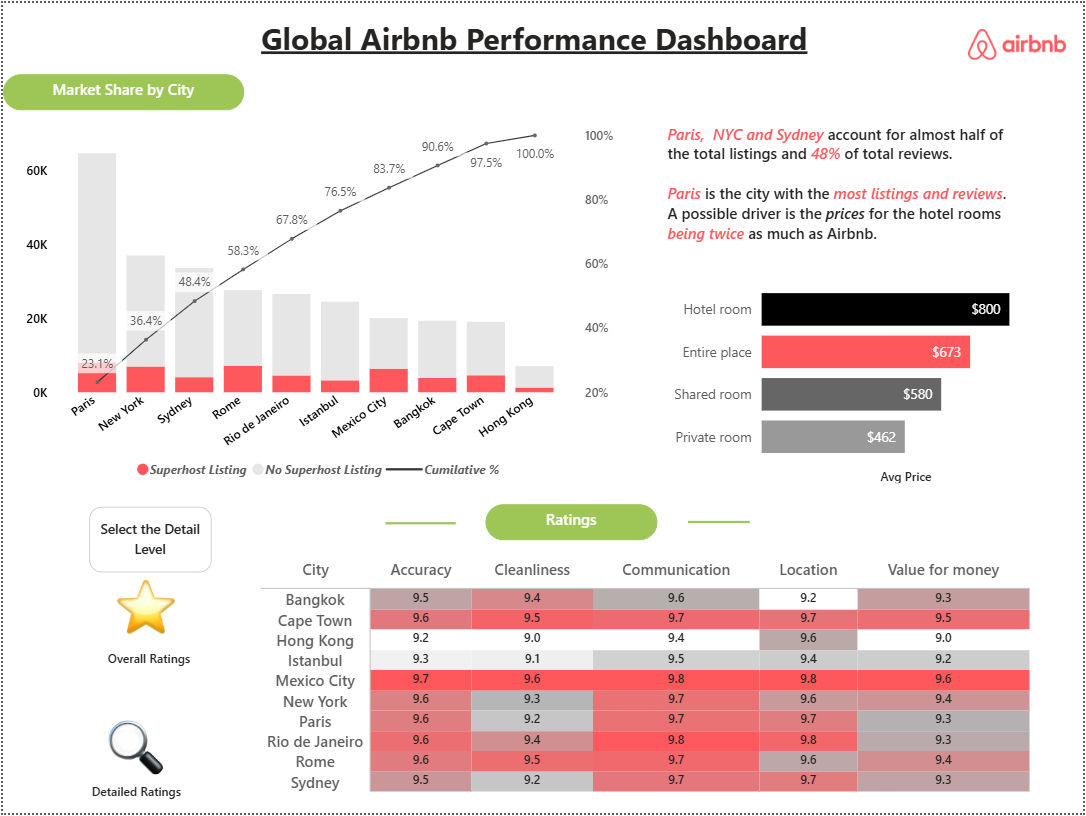

Layout of this report page (visuals, bound fields, positions):
{"tool":"powerbi","page":{"name":"Ratings","canvas":[960,720],"ordinal":1},"visuals":[{"type":"image","box":[857.6,19.6,87,33.7],"z":0},{"type":"image","box":[29.7,476.9,194.5,120.9],"z":0,"group":"g1"},{"type":"image","box":[29.7,604.4,175.8,115.4],"z":0,"group":"g2"},{"type":"textbox","box":[224.6,7.6,510.9,56.5],"z":1000},{"type":"textbox","box":[76.7,568.2,106.2,31],"z":1000,"group":"g1"},{"type":"textbox","box":[67.9,685.8,101.5,33.6],"z":1000,"group":"g2"},{"type":"textbox","box":[0,63.7,214.3,31.9],"z":2000},{"type":"lineStackedColumnComboChart","fields":{"Y":["Listings.Superhost Listing","Listings.No Superhost Listing"],"Category":["Listings.city"],"Y2":["Listings.Cumilative %"]},"box":[15.4,102.2,533,329.7],"z":3000},{"type":"barChart","fields":{"Y":["Listings.Avg Price"],"Category":["Listings.room_type"]},"box":[585.7,229.7,350.5,202.2],"z":4000},{"type":"textbox","box":[585.7,102.2,315.4,127.5],"z":5000},{"type":"columnChart","fields":{"Y":["Listings.Average Rating"],"Category":["Listings.city"]},"box":[224.2,490.1,676.9,212.1],"z":6000},{"type":"textbox","box":[429.1,445.1,152.7,31.9],"z":8000},{"type":"shape","box":[339.6,433,62.6,58.2],"z":9000},{"type":"shape","box":[608.8,431.9,54.9,58.2],"z":10000},{"type":"group","id":"g1","title":"Group 1","box":[29.7,476.9,194.5,122],"z":11000},{"type":"group","id":"g2","title":"Group 2","box":[29.7,604.4,175.8,115.4],"z":12000},{"type":"textbox","box":[76.9,447.3,108.8,58.2],"z":13000}]}

Visuals, with their boxes in screenshot pixels (x1, y1, x2, y2), scaled from the page's 960x720 canvas onto the 1086x816 screenshot:
image: (left=970, top=22, right=1069, bottom=60)
image: (left=34, top=540, right=254, bottom=678)
image: (left=34, top=685, right=232, bottom=815)
textbox: (left=254, top=9, right=832, bottom=73)
textbox: (left=87, top=644, right=207, bottom=679)
textbox: (left=77, top=777, right=192, bottom=815)
textbox: (left=0, top=72, right=242, bottom=108)
lineStackedColumnComboChart - Listings.Superhost Listing x Listings.No Superhost Listing: (left=17, top=116, right=620, bottom=489)
barChart - Listings.Avg Price x Listings.room_type: (left=663, top=260, right=1059, bottom=489)
textbox: (left=663, top=116, right=1019, bottom=260)
columnChart - Listings.Average Rating x Listings.city: (left=254, top=555, right=1019, bottom=796)
textbox: (left=485, top=504, right=658, bottom=541)
shape: (left=384, top=491, right=455, bottom=557)
shape: (left=689, top=489, right=751, bottom=555)
"Group 1" group: (left=34, top=540, right=254, bottom=679)
"Group 2" group: (left=34, top=685, right=232, bottom=815)
textbox: (left=87, top=507, right=210, bottom=573)
